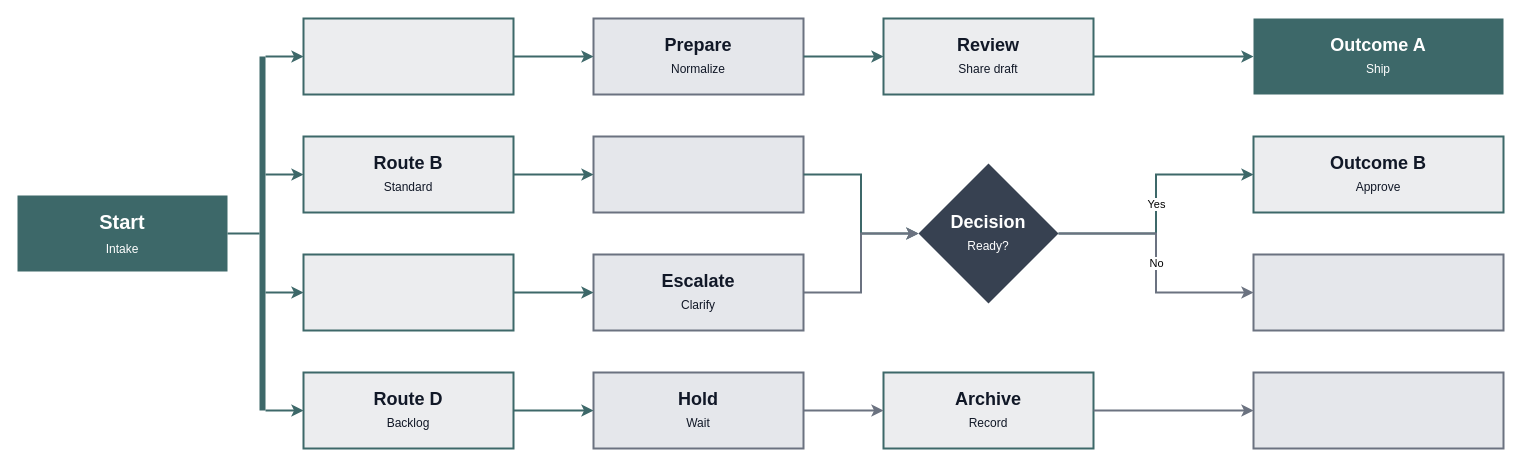
Image size: 1521x466. Some labels were removed from this diagram. The centre of each missing label's shape, as x and y in pixels:
"Assess Compare" belongs at point 698,174.
"Outcome C Revise" belongs at point 1378,292.
"Outcome D Park" belongs at point 1378,410.
"Route A Fast lane" belongs at point 408,56.
"Route C Exception" belongs at point 408,292.
